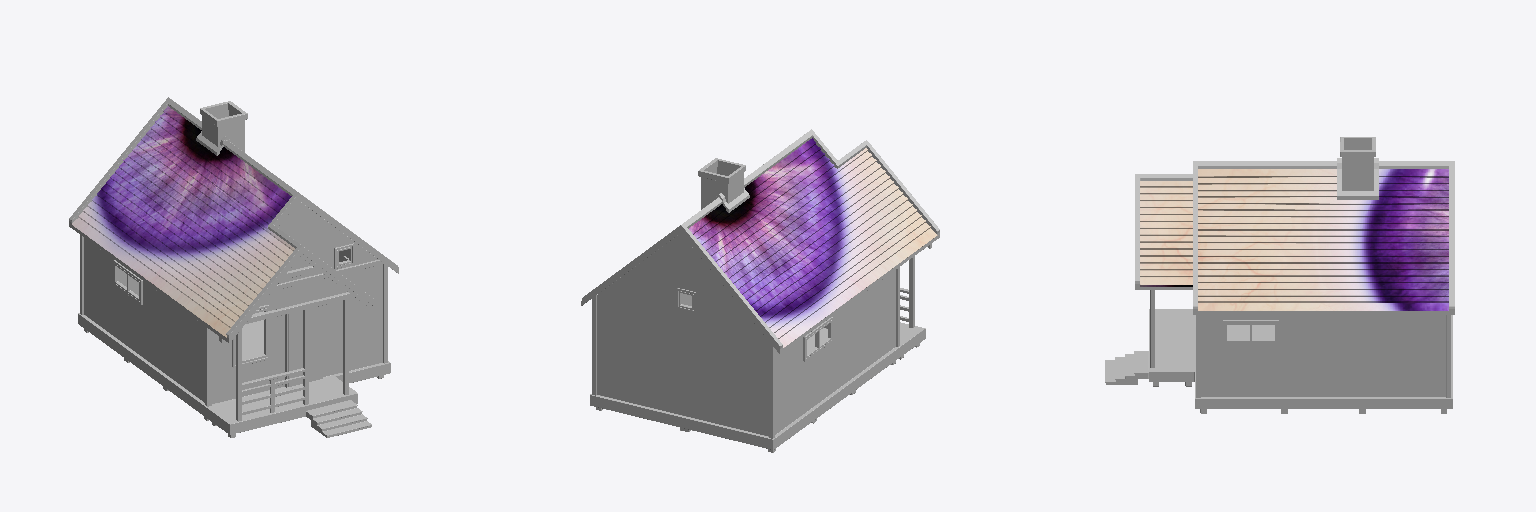
The picture shows the model from 3 angles: view 1: azimuth 30°, elevation 25°; view 2: azimuth 150°, elevation 25°; view 3: azimuth 270°, elevation 25°; orthographic projection.
Parts seen in each view (by area): view 1: building_001.009_Material.001_0, building_001.011_Material_0, building_001.008_Material.003_0, building_001.010_Material.003_0, building_001.011_Material.011_0, Cube.004_Material.003_0, Cube.012_Material.010_0, building_001.013_Material.006_0, building_001.012_Material.007_0, building_001.012_Material.008_0, building_001.007_Material.012_0; view 2: building_001.011_Material_0, building_001.009_Material.001_0, building_001.008_Material.003_0, Cube.004_Material.003_0, building_001.011_Material.011_0, building_001.012_Material.007_0, building_001.012_Material.008_0, building_001.010_Material.003_0, building_001.007_Material.012_0; view 3: building_001.009_Material.001_0, building_001.011_Material_0, building_001.008_Material.003_0, building_001.011_Material.011_0, building_001.013_Material.006_0, building_001.012_Material.007_0, building_001.007_Material.012_0, Cube.004_Material.003_0, building_001.012_Material.008_0.
Boxes of the visible parts, x1,y1,x2,y2 form: building_001.009_Material.001_0: [71, 106, 294, 337]; building_001.011_Material_0: [78, 201, 390, 434]; building_001.008_Material.003_0: [69, 97, 398, 343]; building_001.010_Material.003_0: [219, 254, 367, 421]; building_001.011_Material.011_0: [78, 313, 389, 423]; Cube.004_Material.003_0: [80, 235, 387, 406]; Cube.012_Material.010_0: [288, 306, 320, 386]; building_001.013_Material.006_0: [306, 400, 371, 437]; building_001.012_Material.007_0: [202, 110, 244, 152]; building_001.012_Material.008_0: [200, 101, 247, 126]; building_001.007_Material.012_0: [72, 216, 338, 341]; building_001.011_Material_0: [590, 233, 925, 449]; building_001.009_Material.001_0: [689, 138, 937, 347]; building_001.008_Material.003_0: [581, 129, 939, 353]; Cube.004_Material.003_0: [592, 267, 899, 438]; building_001.011_Material.011_0: [590, 322, 924, 439]; building_001.012_Material.007_0: [701, 167, 743, 209]; building_001.012_Material.008_0: [698, 158, 745, 183]; building_001.010_Material.003_0: [900, 244, 931, 327]; building_001.007_Material.012_0: [620, 236, 936, 351]; building_001.009_Material.001_0: [1140, 169, 1448, 310]; building_001.011_Material_0: [1149, 315, 1452, 408]; building_001.008_Material.003_0: [1135, 158, 1454, 314]; building_001.011_Material.011_0: [1149, 309, 1452, 398]; building_001.013_Material.006_0: [1105, 351, 1148, 384]; building_001.012_Material.007_0: [1342, 145, 1373, 190]; building_001.007_Material.012_0: [1140, 287, 1448, 314]; Cube.004_Material.003_0: [1196, 315, 1450, 397]; building_001.012_Material.008_0: [1340, 137, 1375, 156].
Size of the model in its own units: 8.4 by 9.2 by 12.69.
Materials: 9 (1 with a texture image).